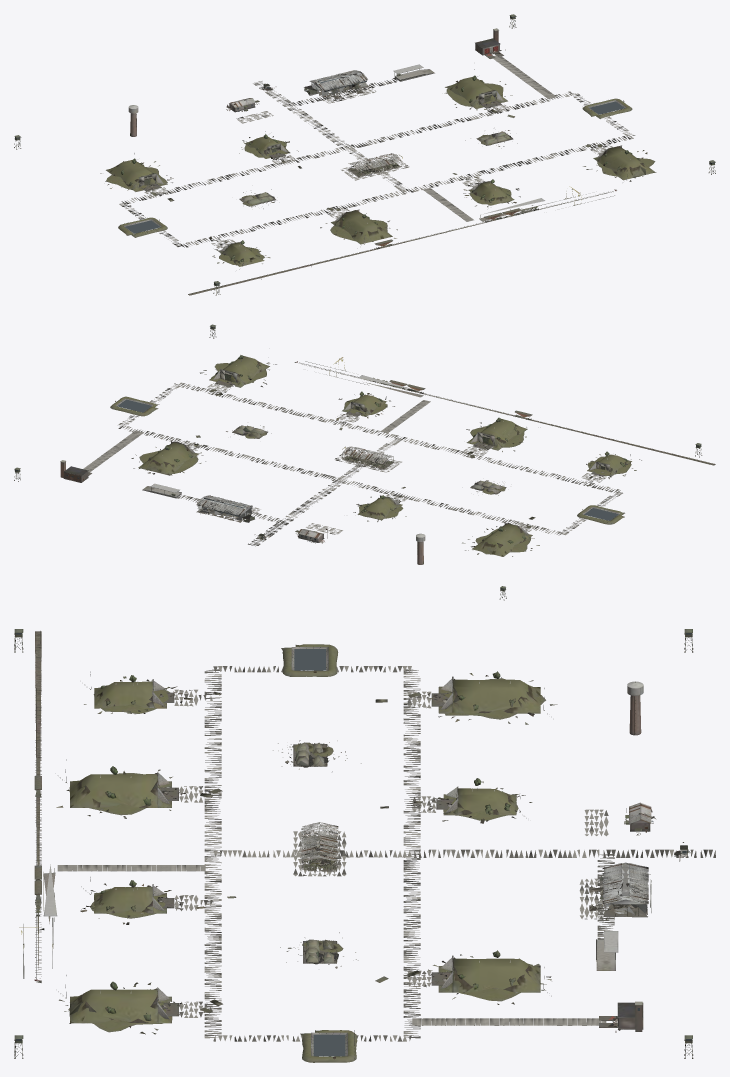
Rendered from site_ammo_city_lo.glb.
The picture shows the model from 3 angles, top to bottom: view 1: azimuth 30°, elevation 25°; view 2: azimuth 150°, elevation 25°; view 3: azimuth 270°, elevation 25°; orthographic projection. The views are drawn at different scales.
Parts seen in each view (by area): view 1: deco_roads|tile_conc, deco_rail|A_A, b_mag1|A_A, b_mag3|A_A, deco_roads2|tile_conc, b_mag7|A_A, b_mag5|A_A, b_shop_ruin|A_B, b_shop|A_A, b_mag5_ruin|A_B, b_mag7_ruin|A_B, b_mag3_ruin|A_B (+7 smaller); view 2: deco_roads|tile_conc, deco_rail|A_A, b_mag5|A_A, b_mag7|A_A, b_mag3|A_A, b_mag1|A_A, deco_roads2|tile_conc, b_shop_ruin|A_B, b_mag1_ruin|A_B, b_shop|A_A, b_mag3_ruin|A_B, b_shed|A_A (+6 smaller); view 3: deco_roads|tile_conc, b_mag7|A_A, b_mag5|A_A, deco_rail|A_A, b_mag3|A_A, b_mag1|A_A, deco_roads2|tile_conc, b_shop|A_A, b_shop_ruin|A_B, b_mag2|A_A, b_mag6|A_A, b_mag3_ruin|A_B (+18 smaller).
Boxes of the visible parts, <box> form: deco_roads|tile_conc: <box>119,78,635,248</box>; deco_rail|A_A: <box>188,186,616,295</box>; b_mag1|A_A: <box>106,153,167,191</box>; b_mag3|A_A: <box>447,69,507,108</box>; deco_roads2|tile_conc: <box>423,55,556,221</box>; b_mag7|A_A: <box>593,145,654,179</box>; b_mag5|A_A: <box>331,209,392,244</box>; b_shop_ruin|A_B: <box>304,70,370,99</box>; b_shop|A_A: <box>304,70,369,99</box>; b_mag5_ruin|A_B: <box>320,207,397,244</box>; b_mag7_ruin|A_B: <box>583,144,656,181</box>; b_mag3_ruin|A_B: <box>444,76,514,117</box>; deco_roads|tile_conc: <box>118,382,622,546</box>; deco_rail|A_A: <box>294,357,715,465</box>; b_mag5|A_A: <box>468,417,527,450</box>; b_mag7|A_A: <box>209,355,269,387</box>; b_mag3|A_A: <box>138,441,198,475</box>; b_mag1|A_A: <box>472,523,531,556</box>; deco_roads2|tile_conc: <box>83,400,430,472</box>; b_shop_ruin|A_B: <box>196,495,254,522</box>; b_mag1_ruin|A_B: <box>462,516,539,556</box>; b_shop|A_A: <box>196,495,254,522</box>; b_mag3_ruin|A_B: <box>131,435,205,475</box>; b_shed|A_A: <box>341,447,394,469</box>; deco_roads|tile_conc: <box>174,666,715,1041</box>; b_mag7|A_A: <box>65,975,178,1023</box>; b_mag5|A_A: <box>65,759,178,807</box>; deco_rail|A_A: <box>19,631,57,982</box>; b_mag3|A_A: <box>431,950,544,992</box>; b_mag1|A_A: <box>431,671,544,713</box>; deco_roads2|tile_conc: <box>57,865,606,1025</box>; b_shop|A_A: <box>588,862,651,920</box>; b_shop_ruin|A_B: <box>589,863,651,919</box>; b_mag2|A_A: <box>436,778,520,815</box>; b_mag6|A_A: <box>89,877,174,913</box>; b_mag3_ruin|A_B: <box>375,954,551,1004</box>.
Size of the model in its own units: 420 by 23.88 by 289.
54 materials, 39 textured.
